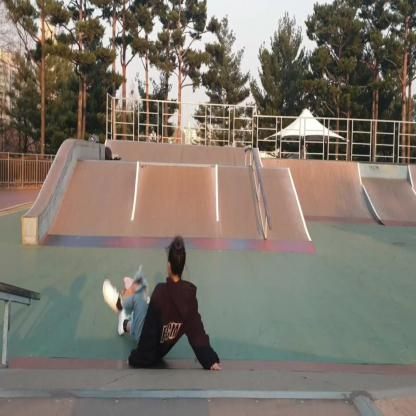Fall_Down: (99, 232, 226, 377)
